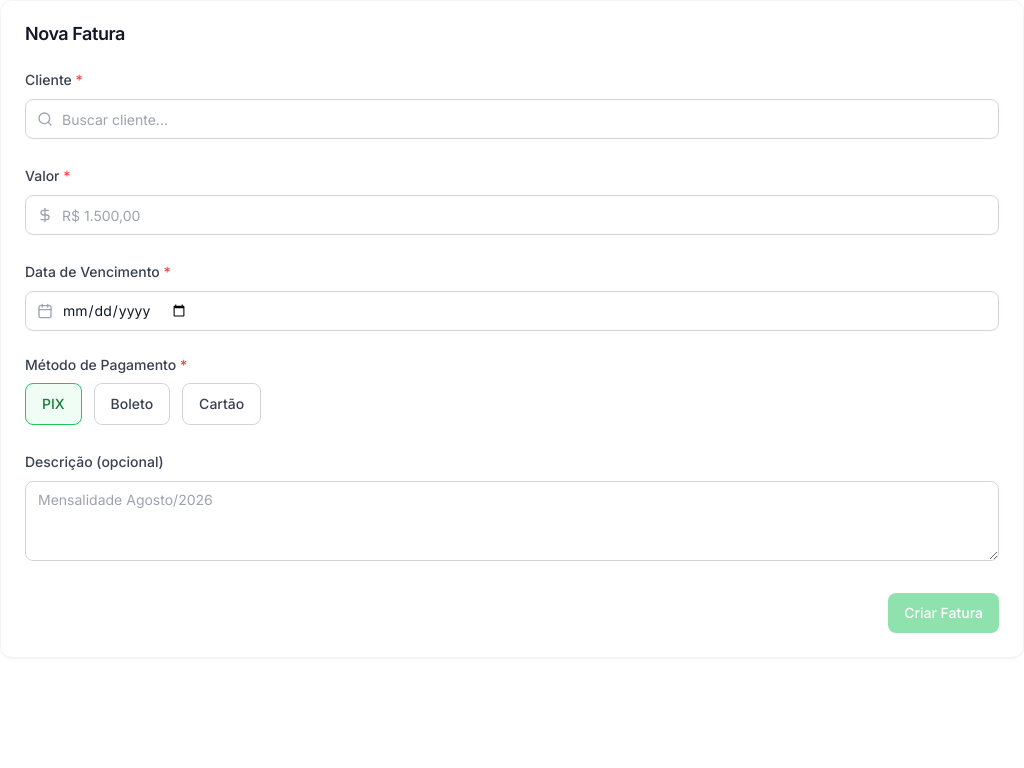
Scenario: InvoiceForm › seleção de método de pagamento › deve permitir alterar método de pagamento
Step 1. Click the text "Boleto" → (132, 404), box [111, 394, 153, 414]
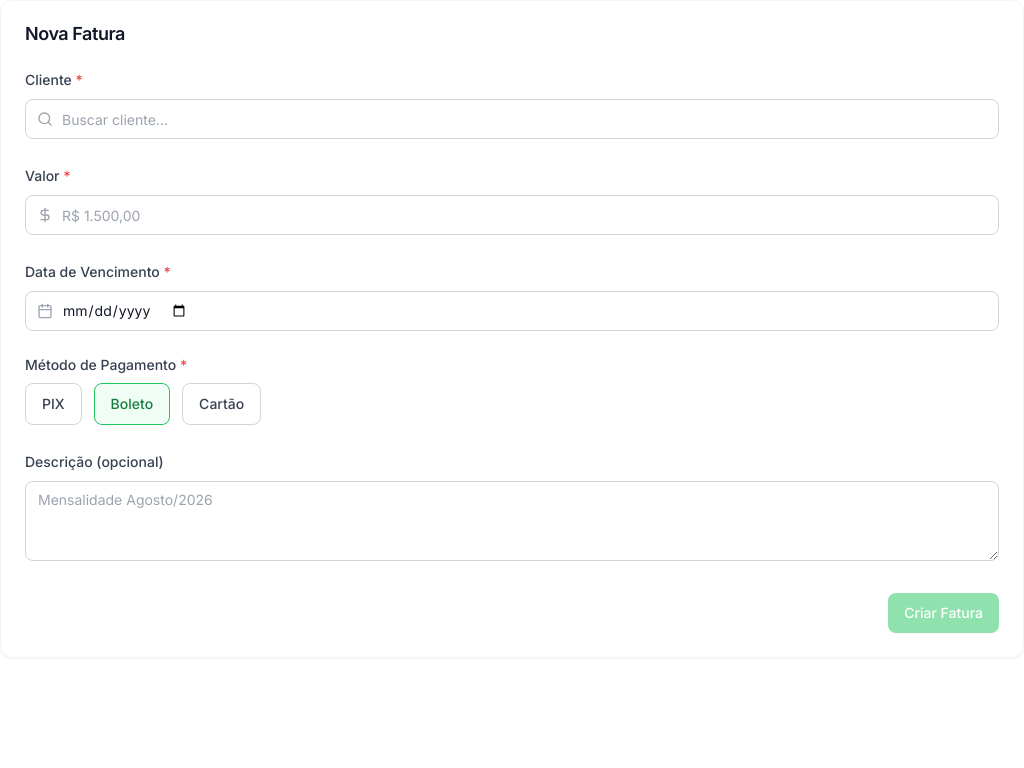
expect the radio button labelled "Boleto" is checked: met, box [94, 383, 170, 425]
